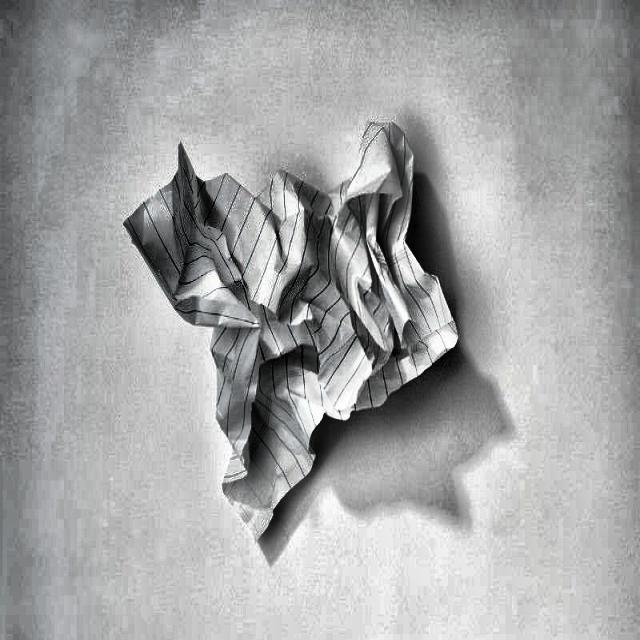Paper: (120, 111, 458, 551)
